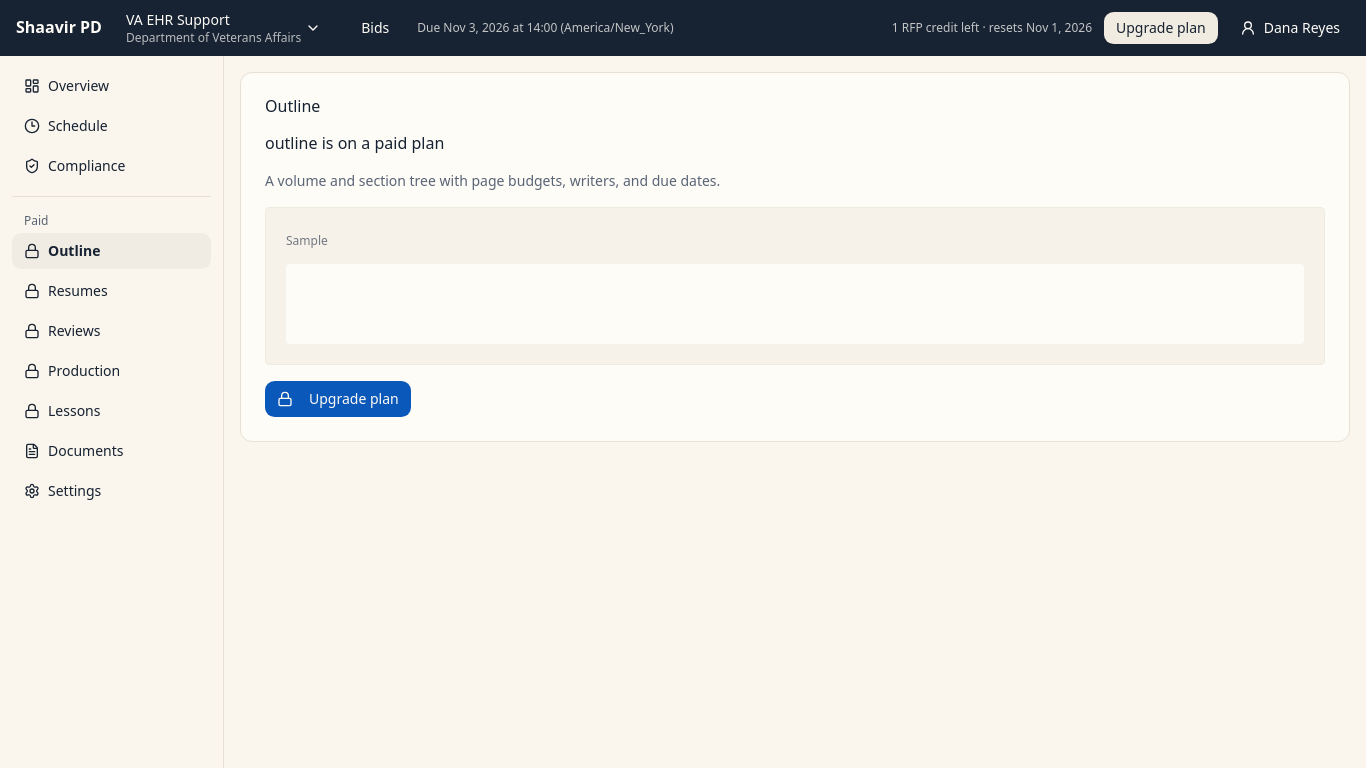
it: ShellContainer › opens Account and Privacy from the account menu
Later steps or results of the test are not shown.
Expected: the text "outline is on a paid plan" is shown, [265,132,444,154]
Click the button with aria-label "Account menu for Dana Reyes": (1290, 28) [1230,12,1350,44]
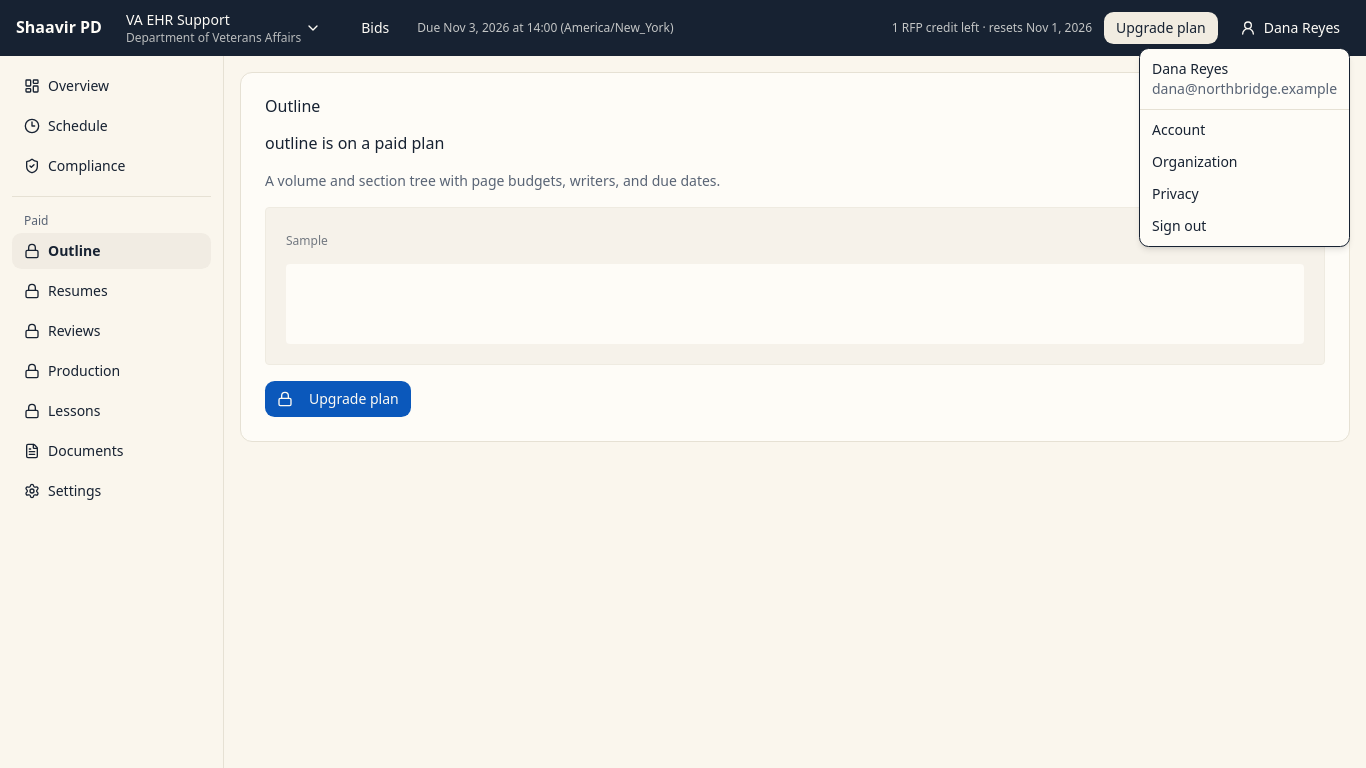
Expected: the text "dana@northbridge.example" is shown, [1152,79,1337,98]
